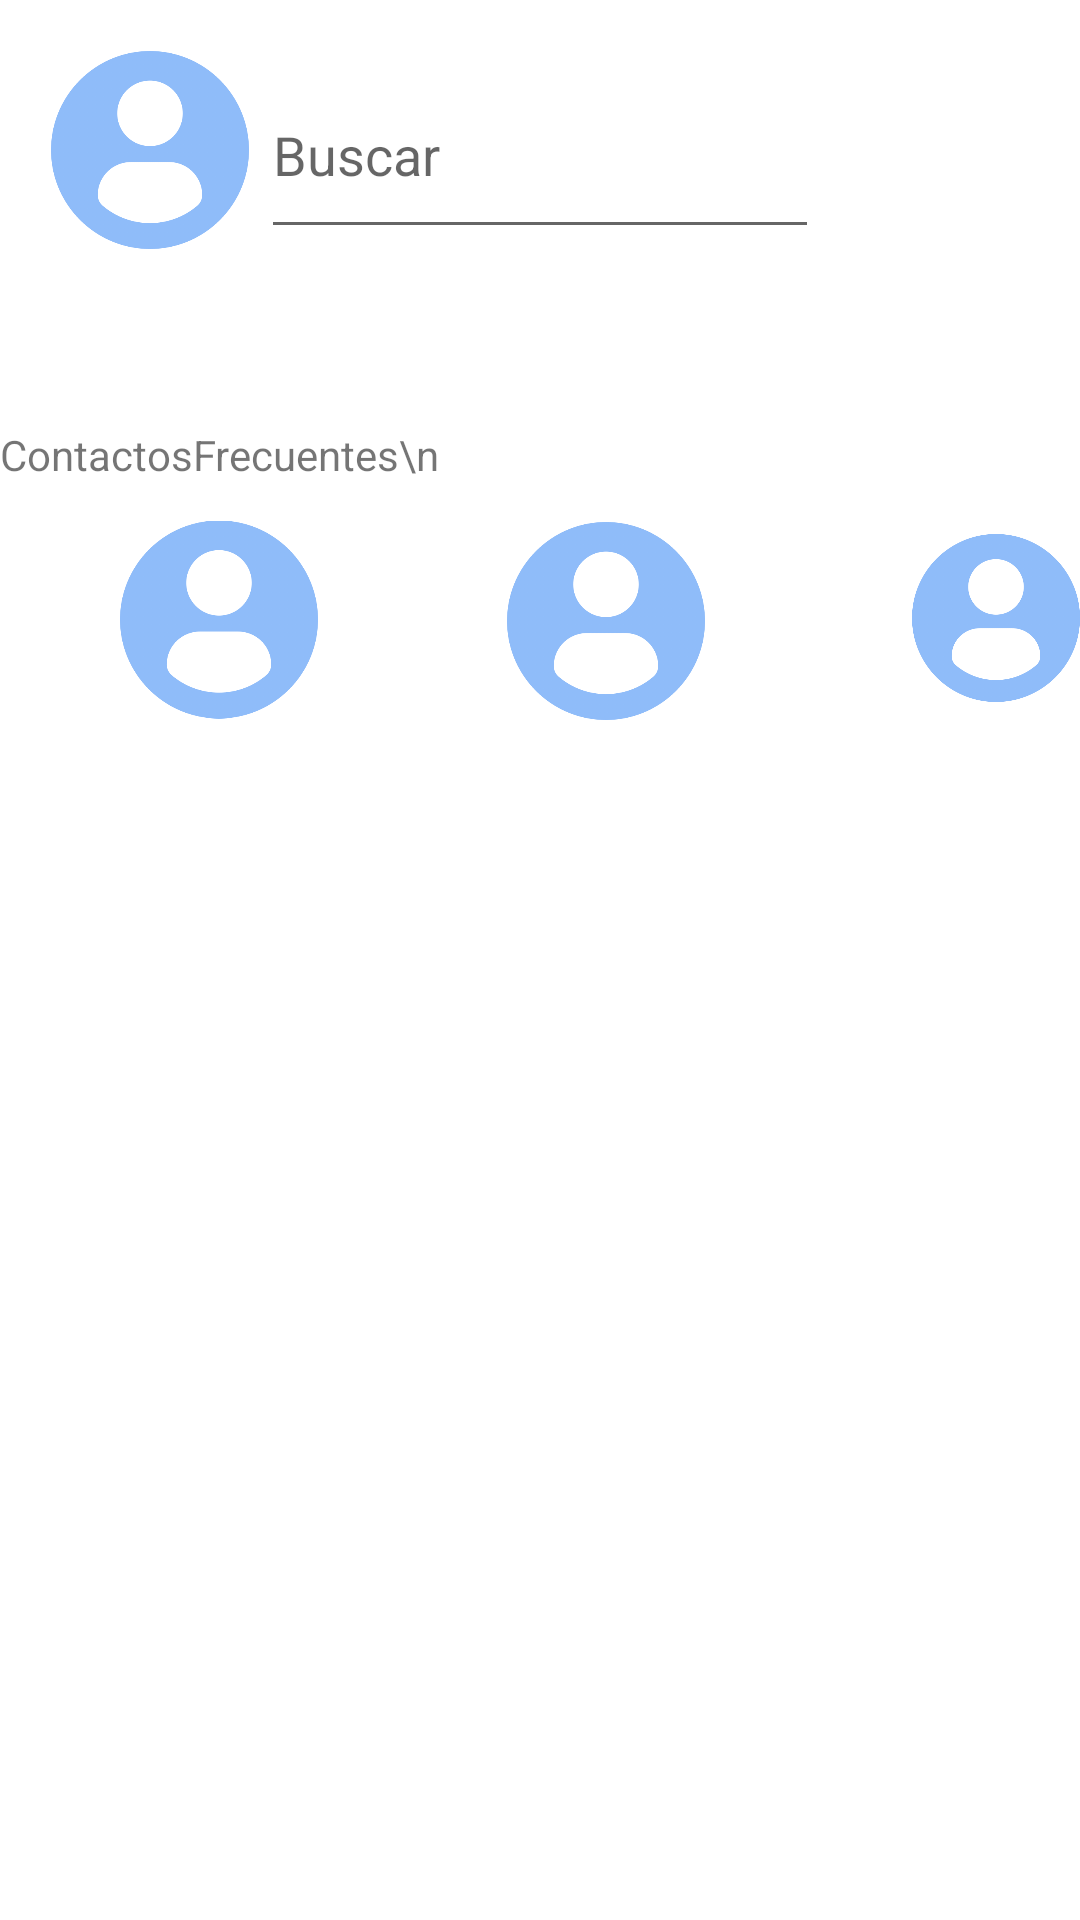

Screen size 1080px×1920px. Icon name, then its box in pixels as BBox(x1, y1, x2, y2):
usuariodeperfil azul: BBox(51, 51, 249, 249), BBox(120, 521, 318, 719), BBox(507, 522, 705, 720), BBox(912, 534, 1080, 702)
